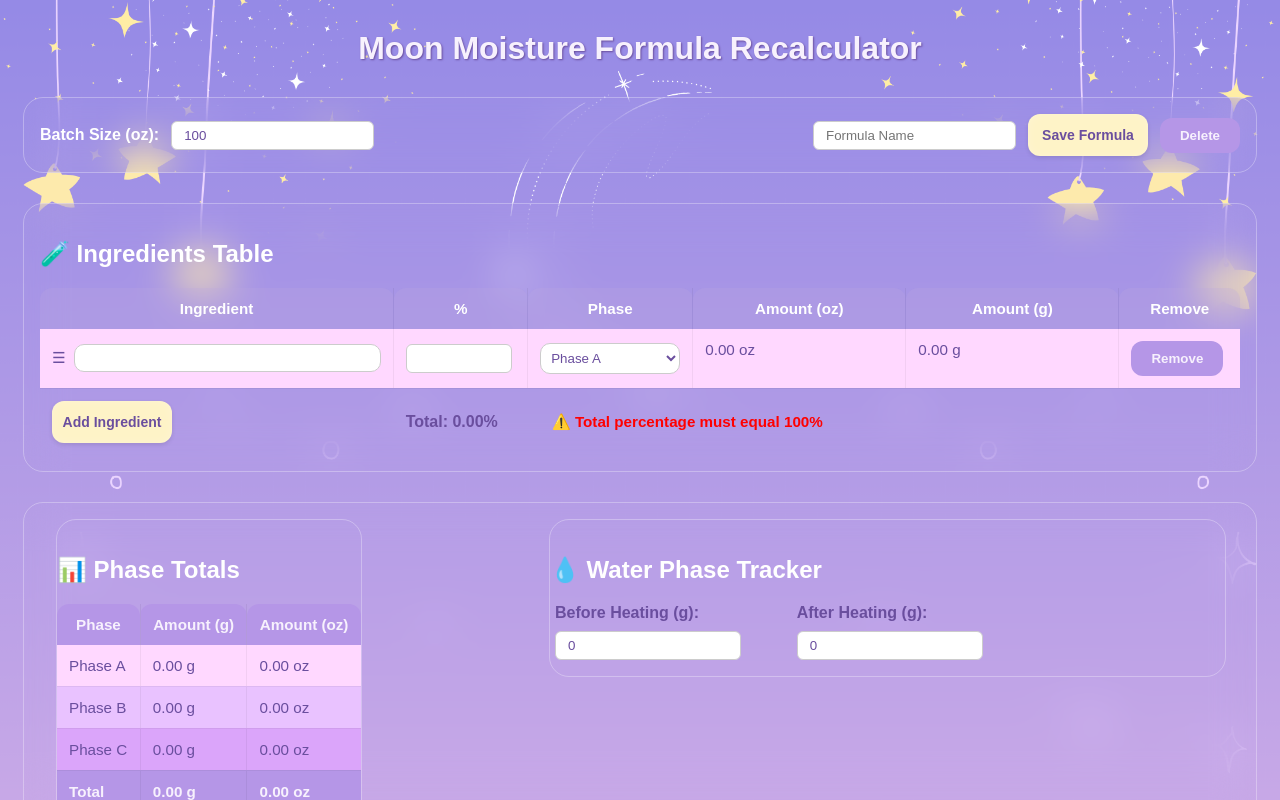
Test: Moon Moisture Formula Recalculator App › calculates water evaporation correctly
Replace the text in the number field labelled "Before Heating (g):" with "100" at {"x": 648, "y": 646}, box x1=555 y1=631 x2=741 y2=660
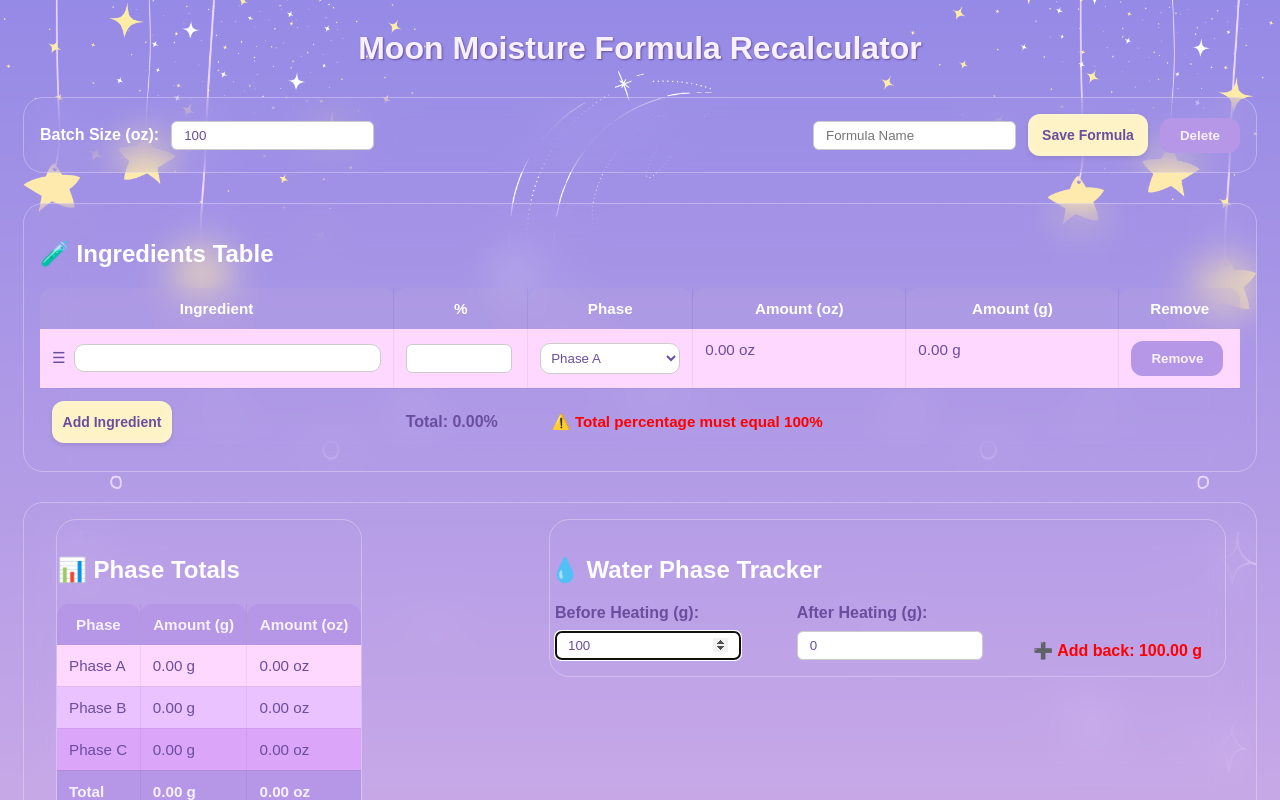
Replace the text in the number field labelled "After Heating (g):" with "94" at {"x": 890, "y": 646}, box x1=797 y1=631 x2=983 y2=660
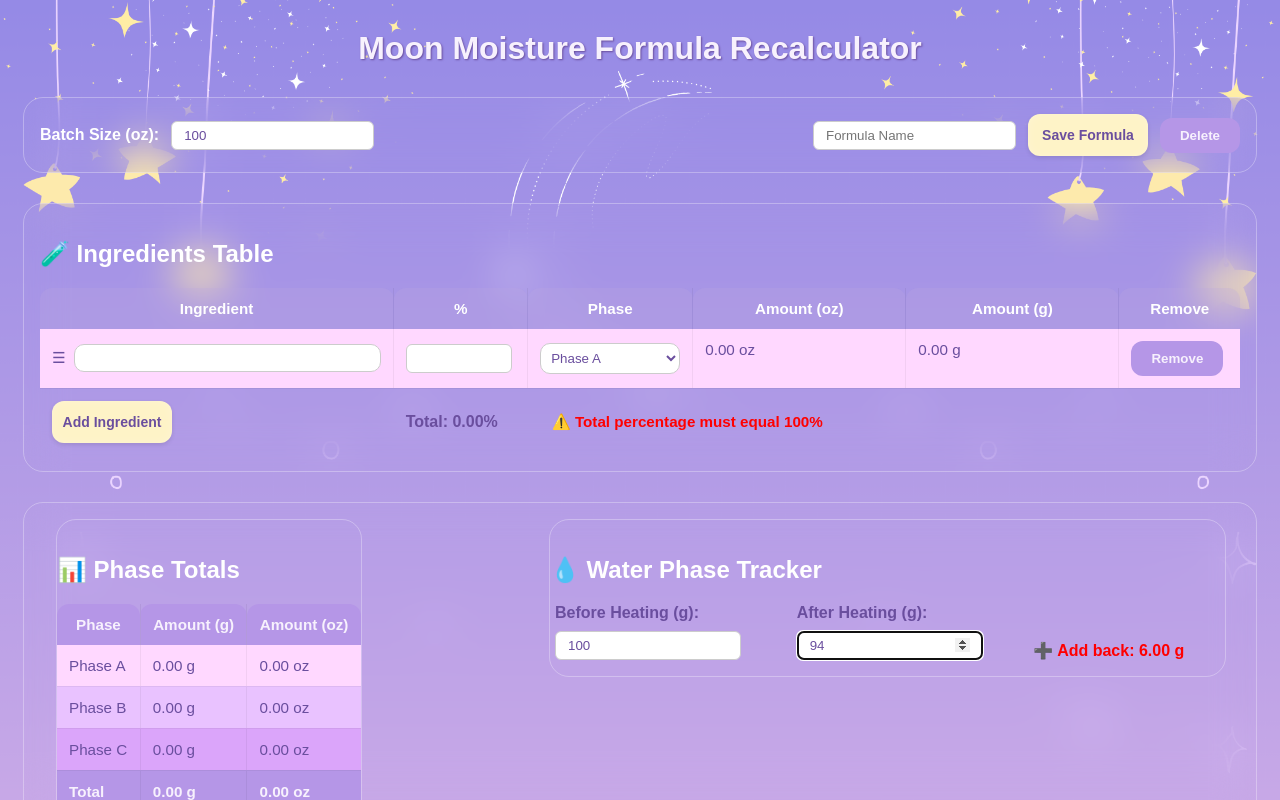
Expected: the text "➕ Add back: 6.00 g" is shown, x1=1033 y1=641 x2=1184 y2=660
